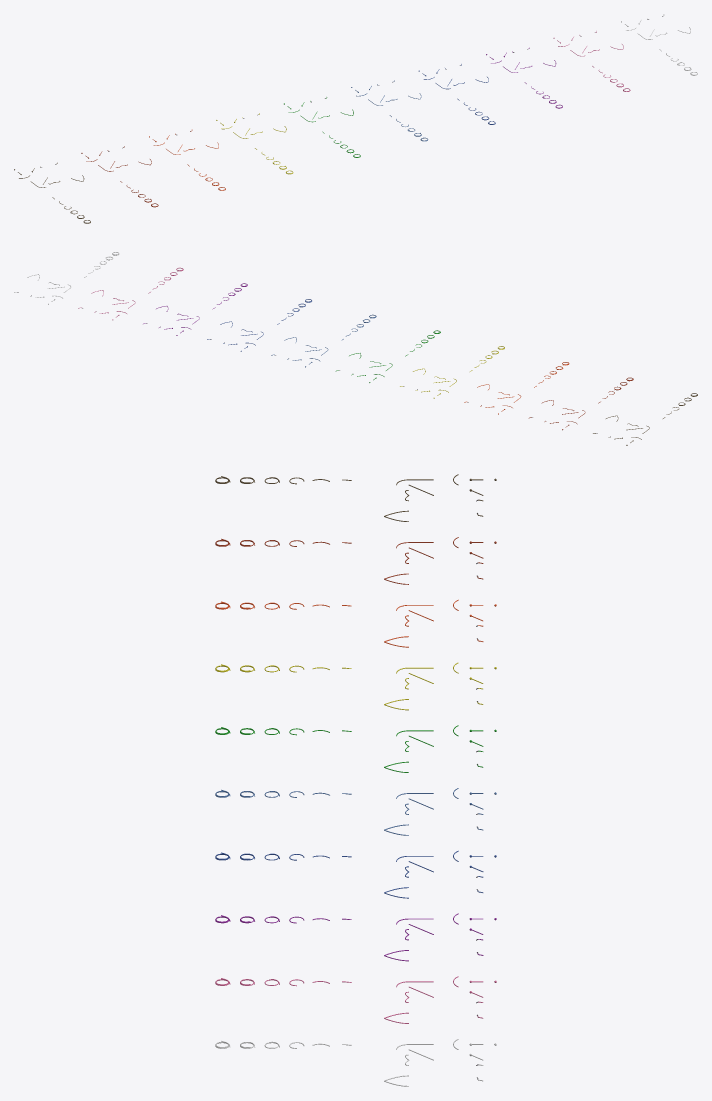
Rendered from Wires.fbx.
3 renders of one model, top to bottom at view 1: azimuth 30°, elevation 25°; view 2: azimuth 150°, elevation 25°; view 3: azimuth 270°, elevation 25°, orthographic. The views are drawn at different scales.
Size of the model in its own units: 58.53 by 0.142 by 11.38.
